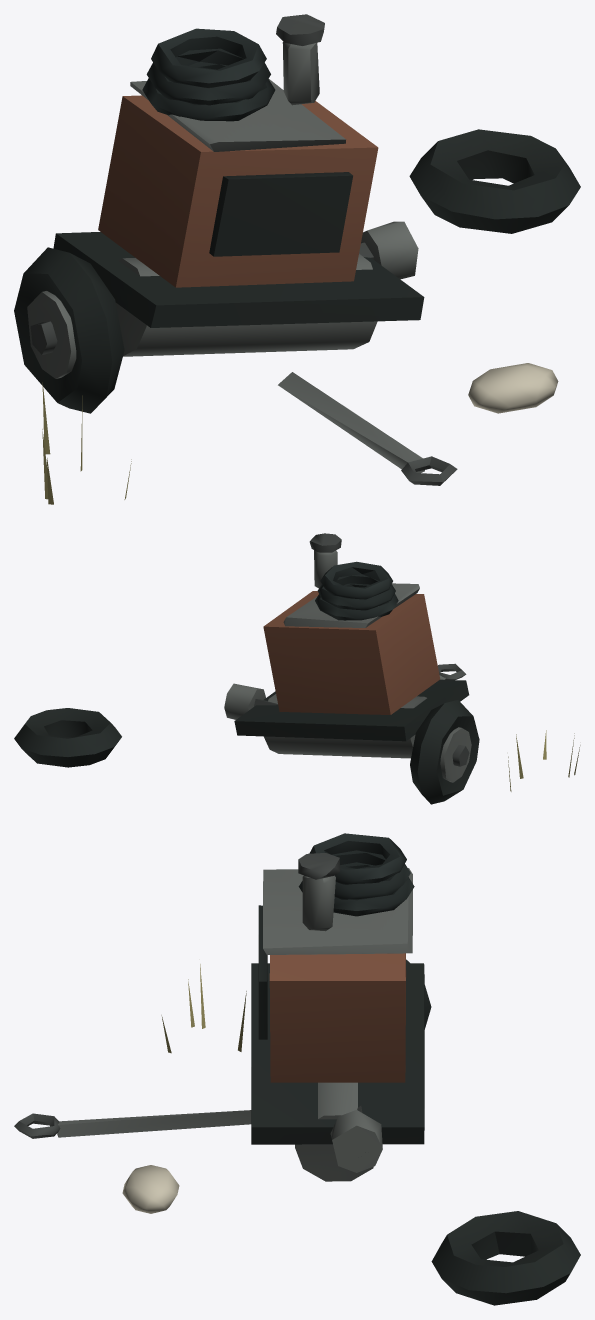
The model's file is compressor_cart_b_lod1.glb.
3 renders of one model, top to bottom at view 1: azimuth 30°, elevation 25°; view 2: azimuth 150°, elevation 25°; view 3: azimuth 270°, elevation 25°, orthographic. The views are drawn at different scales.
Visible parts, largest first — view 1: Surface.001; view 2: Surface.001; view 3: Surface.001.
Boxes of the visible parts, x1,y1,x2,y2 form: Surface.001: (14, 14, 580, 504); Surface.001: (14, 533, 580, 804); Surface.001: (14, 833, 580, 1305).
Size of the model in its own units: 5.69 by 2.69 by 4.55.
